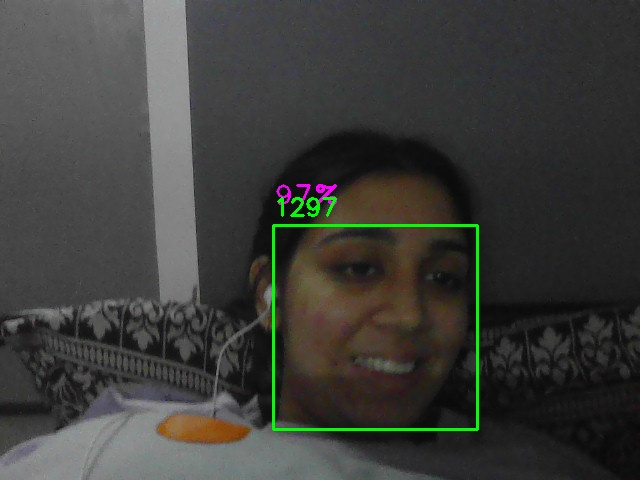real: (273, 225, 478, 430)
